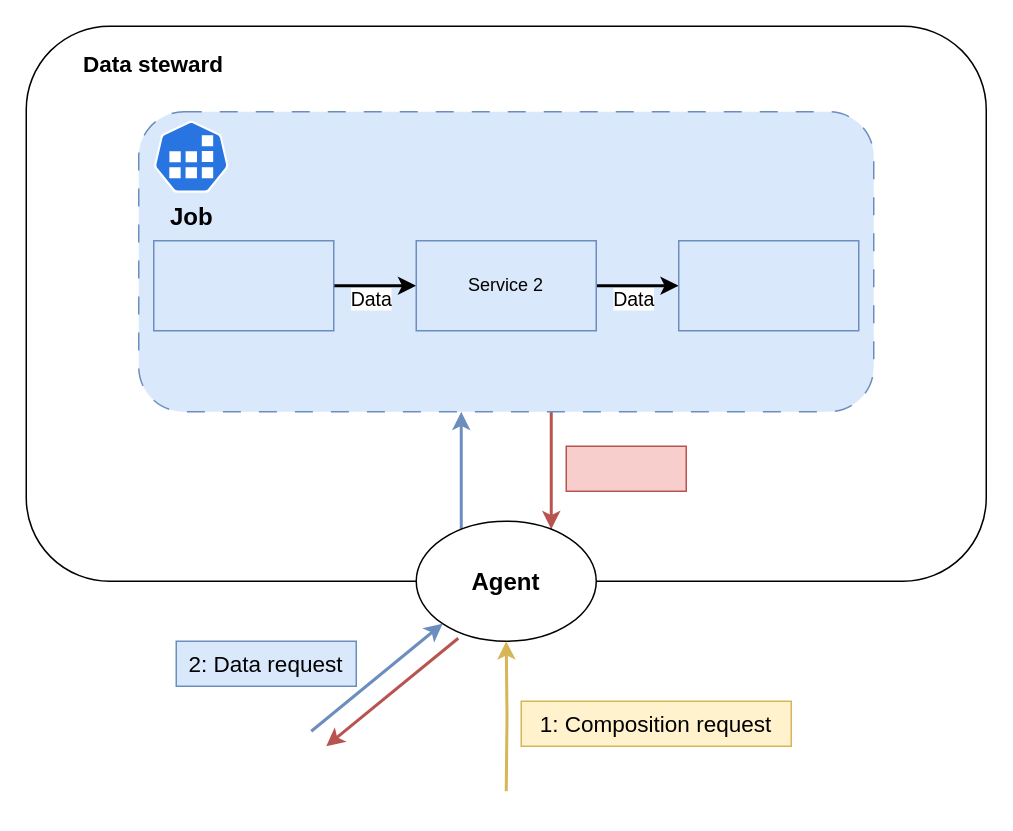
Image size: 1013x831. Some labels were removed from this diagram. The centre of each missing label's shape, as x and y in pixels:
3: Results: [625,468]
Service 1: [243,285]
Service 3: [768,285]
